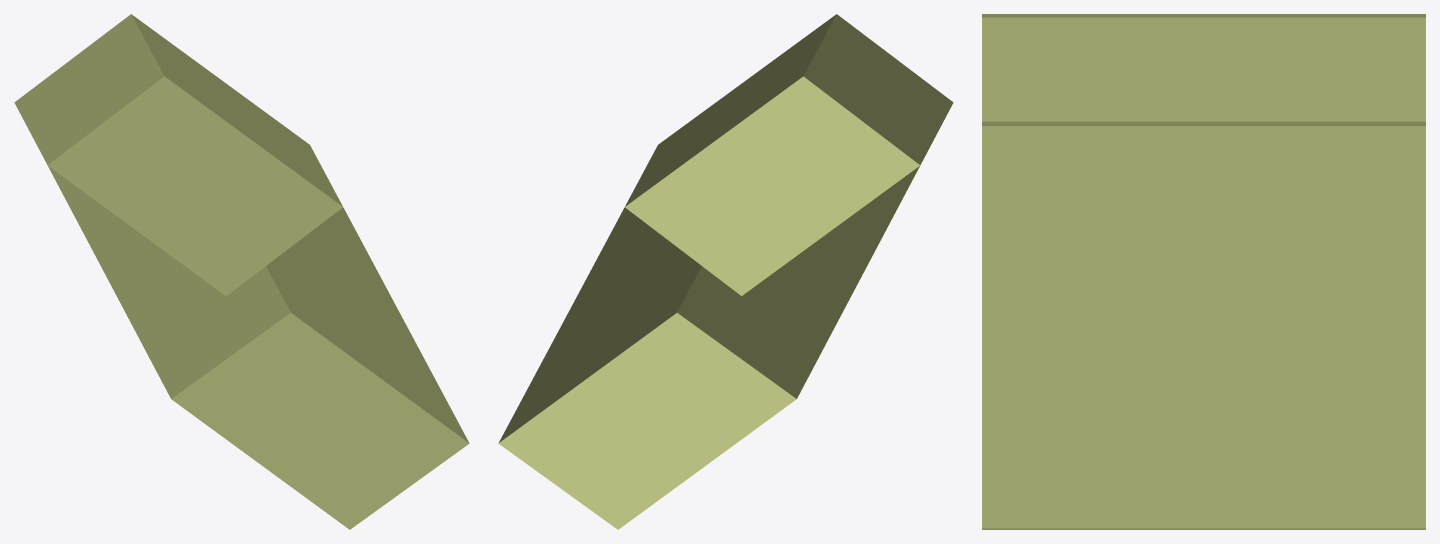
3 views of the same model, side by side, from view 1: azimuth 30°, elevation 25°; view 2: azimuth 150°, elevation 25°; view 3: azimuth 270°, elevation 25° (orthographic). The views are drawn at different scales.
Parts seen in each view (by area): view 1: 0_1_1_3_2_2_0_0_0_1; view 2: 0_1_1_3_2_2_0_0_0_1; view 3: 0_1_1_3_2_2_0_0_0_1.
Part boxes in pixels (<box>): 0_1_1_3_2_2_0_0_0_1: <box>14,14,469,529</box>; 0_1_1_3_2_2_0_0_0_1: <box>498,14,953,529</box>; 0_1_1_3_2_2_0_0_0_1: <box>982,14,1425,529</box>.
Size of the model in its own units: 8.04 by 10.97 by 9.
